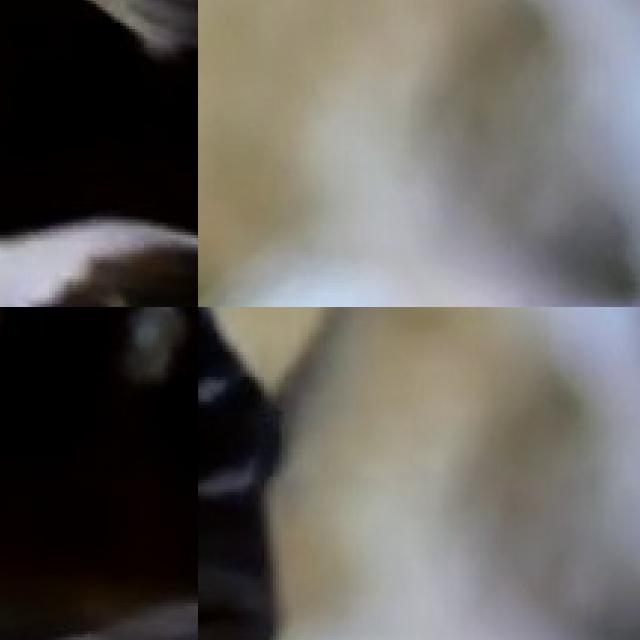fish: (198, 307, 477, 640), (0, 307, 198, 640), (0, 0, 198, 307)
